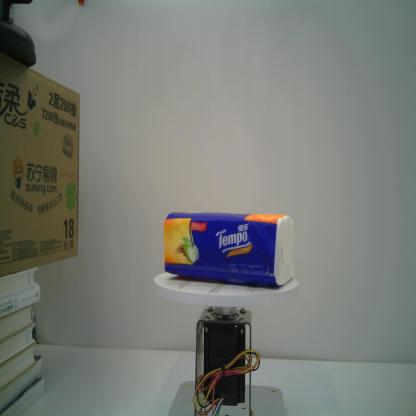Tissue: (160, 207, 300, 289)
